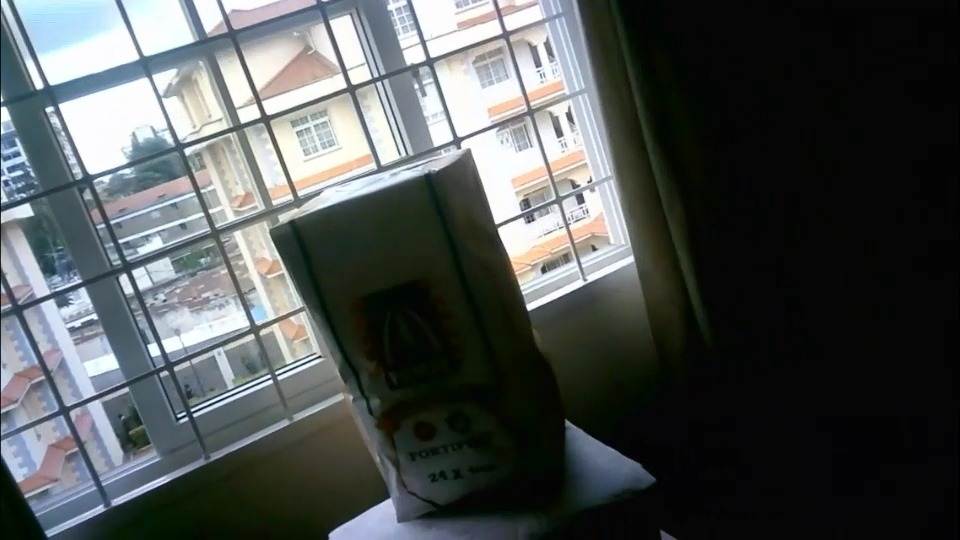wheat_flour_blue_label: (275, 150, 575, 518)
